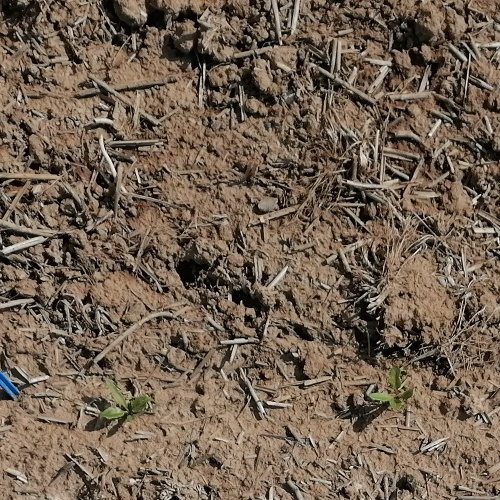beet: (369, 364, 416, 415), (100, 383, 147, 423)
